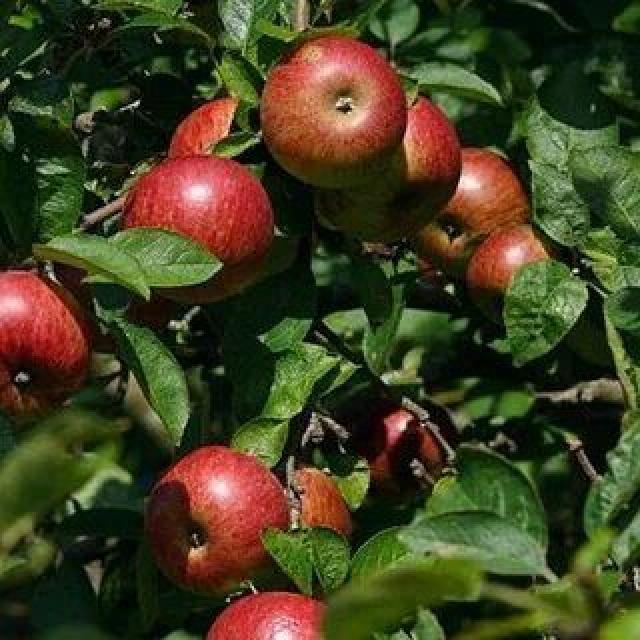Fresh Apple: (248, 45, 407, 185), (140, 445, 283, 598), (127, 162, 265, 283)
